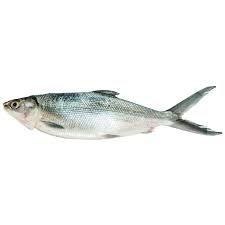Bangus: (3, 85, 222, 148)
